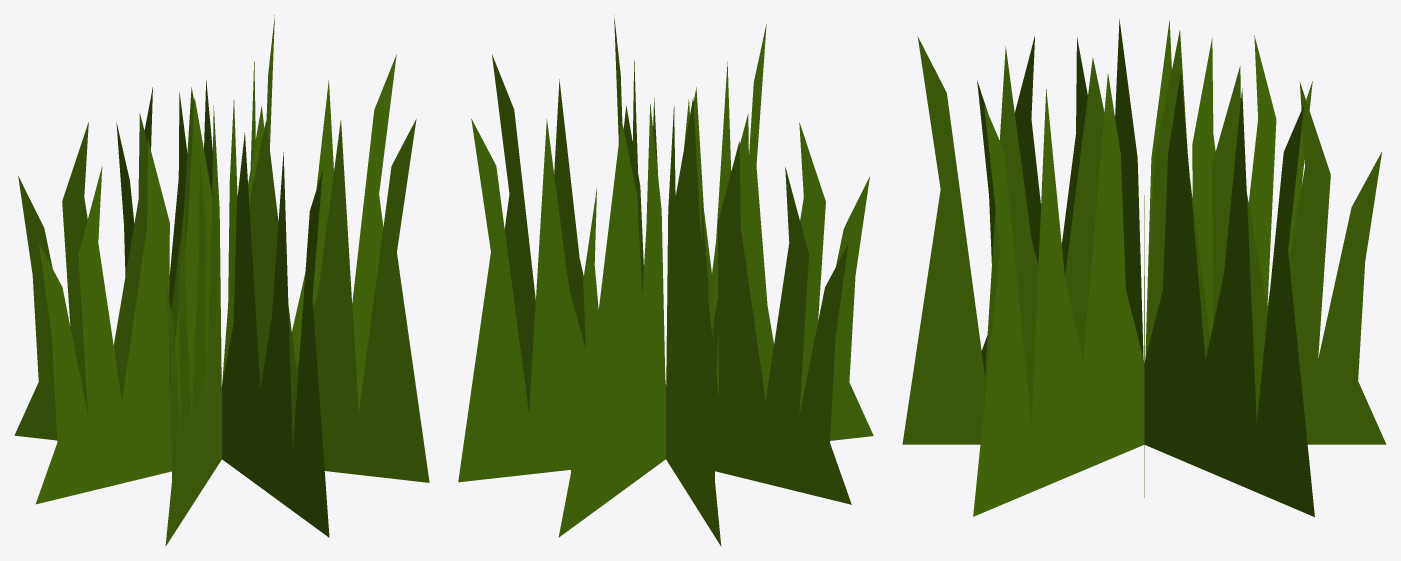
File: grass.glb
3 views of the same model, side by side, from view 1: azimuth 30°, elevation 25°; view 2: azimuth 150°, elevation 25°; view 3: azimuth 270°, elevation 25° (orthographic). The views are drawn at different scales.
Visible parts, largest first — view 1: grass; view 2: grass; view 3: grass.
Boxes of the visible parts, x1,y1,x2,y2 form: grass: (14,15,429,546); grass: (458,14,873,546); grass: (902,19,1386,516).
Bounding box in the file's own units: 2 × 1.9 × 2.
